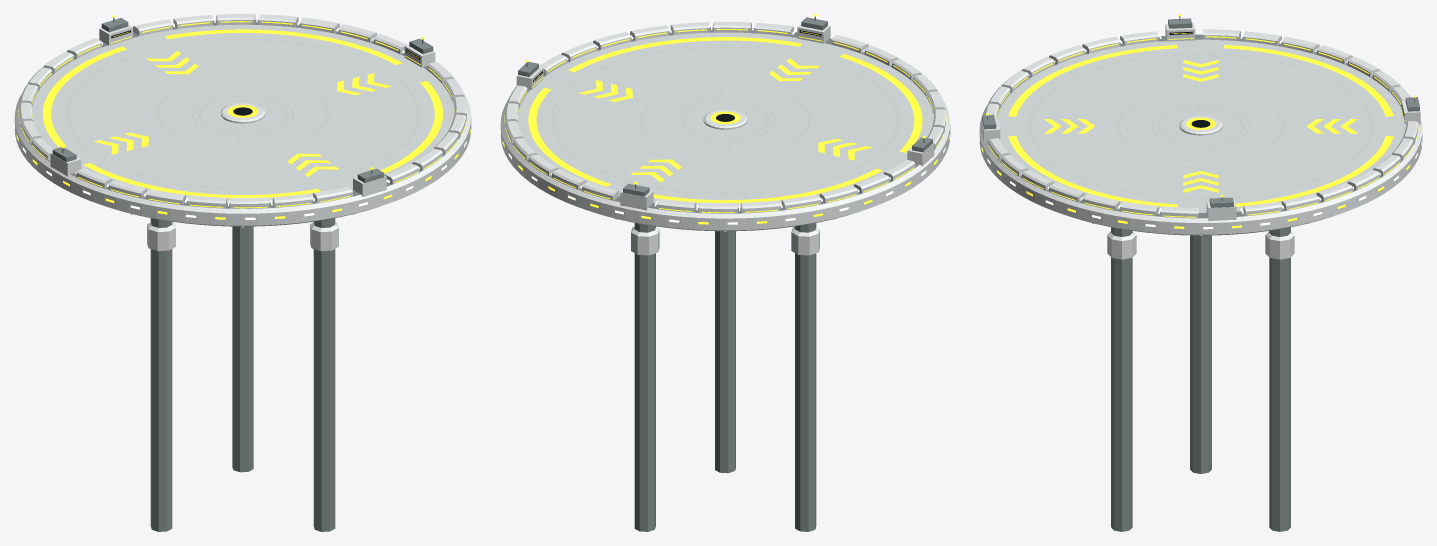
File: plataforma-pouso.glb
The picture shows the model from 3 angles, left to right: view 1: azimuth 30°, elevation 25°; view 2: azimuth 150°, elevation 25°; view 3: azimuth 270°, elevation 25°; orthographic projection. The views are drawn at different scales.
Parts seen in each view (by area): view 1: plataforma-pouso_deque, plataforma-pouso_pilares, plataforma-pouso_aro, plataforma-pouso_sinalizacao, plataforma-pouso_casco, plataforma-pouso_torres, plataforma-pouso_luzes, emissor; view 2: plataforma-pouso_deque, plataforma-pouso_pilares, plataforma-pouso_aro, plataforma-pouso_sinalizacao, plataforma-pouso_casco, plataforma-pouso_torres, plataforma-pouso_luzes, emissor; view 3: plataforma-pouso_deque, plataforma-pouso_pilares, plataforma-pouso_aro, plataforma-pouso_sinalizacao, plataforma-pouso_casco, plataforma-pouso_torres, plataforma-pouso_luzes, emissor.
Part boxes in pixels (<box>): plataforma-pouso_deque: <box>32,24,453,203</box>; plataforma-pouso_pilares: <box>147,218,338,531</box>; plataforma-pouso_aro: <box>19,14,466,208</box>; plataforma-pouso_sinalizacao: <box>42,29,443,198</box>; plataforma-pouso_casco: <box>14,19,471,226</box>; plataforma-pouso_torres: <box>50,18,435,197</box>; plataforma-pouso_luzes: <box>14,15,471,219</box>; emissor: <box>220,103,265,123</box>; plataforma-pouso_deque: <box>517,32,933,208</box>; plataforma-pouso_pilares: <box>631,223,819,531</box>; plataforma-pouso_aro: <box>505,22,945,213</box>; plataforma-pouso_sinalizacao: <box>528,37,922,203</box>; plataforma-pouso_casco: <box>500,27,950,231</box>; plataforma-pouso_torres: <box>516,16,934,210</box>; plataforma-pouso_luzes: <box>500,14,950,224</box>; emissor: <box>703,109,747,129</box>; plataforma-pouso_deque: <box>997,39,1405,212</box>; plataforma-pouso_pilares: <box>1107,227,1294,531</box>; plataforma-pouso_aro: <box>984,29,1418,218</box>; plataforma-pouso_sinalizacao: <box>1008,45,1393,207</box>; plataforma-pouso_casco: <box>979,34,1422,235</box>; plataforma-pouso_torres: <box>981,16,1420,221</box>; plataforma-pouso_luzes: <box>979,14,1422,229</box>; emissor: <box>1179,115,1222,135</box>.
Bounding box in the file's own units: 65.29 × 65.51 × 65.29.
